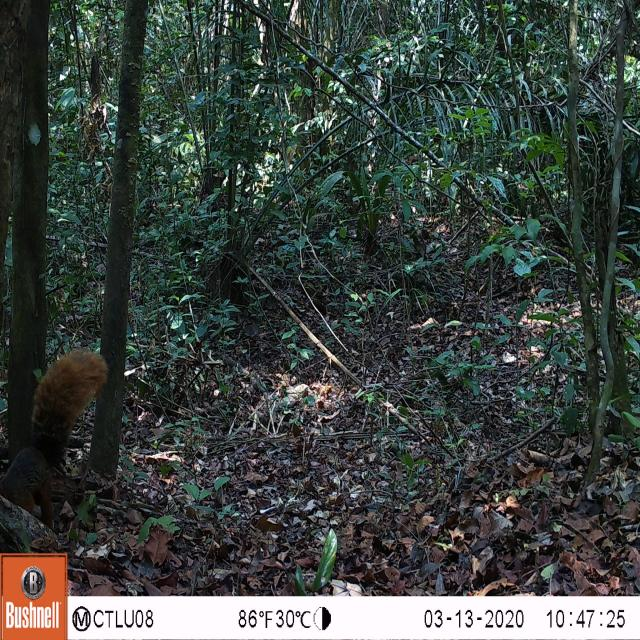Squirrel: (0, 336, 116, 526)
